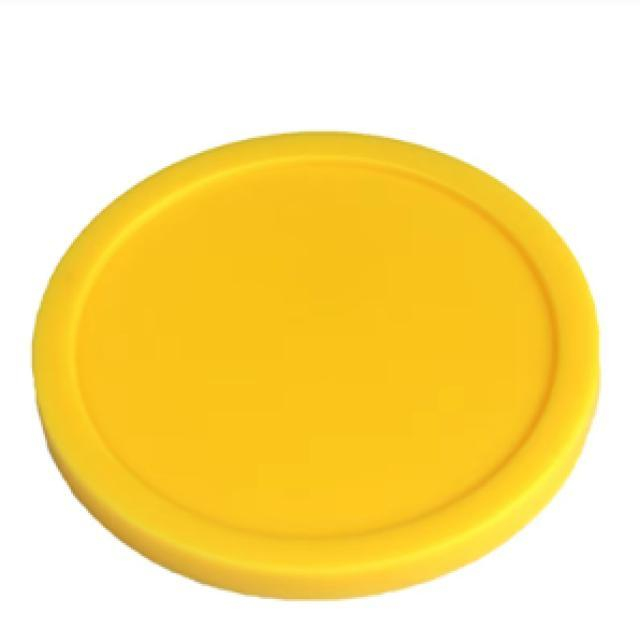chip: (33, 130, 600, 600)
